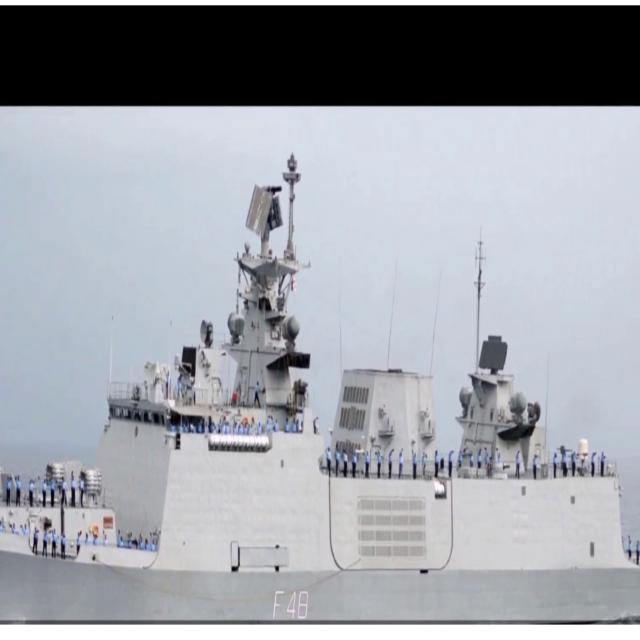OCR: (260, 583, 313, 619)
